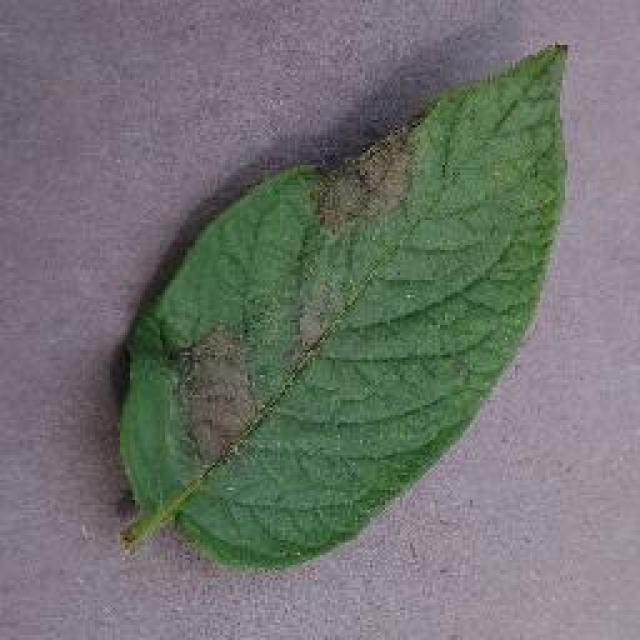late_blight: (110, 38, 572, 572)
